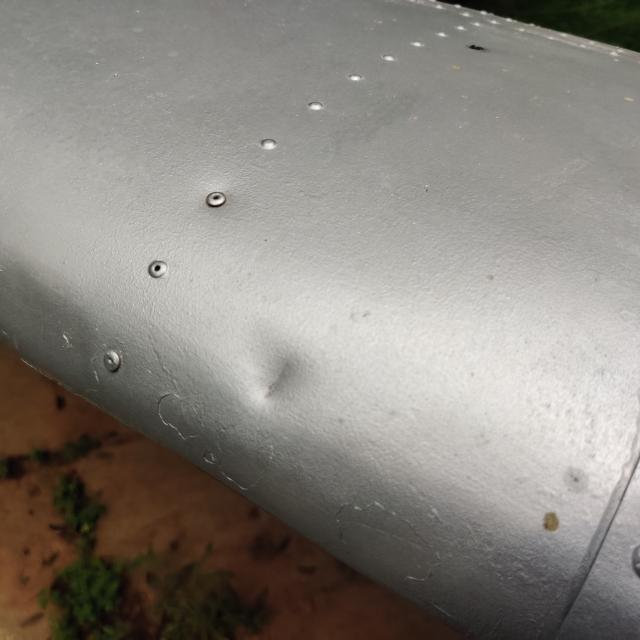dent: (226, 326, 339, 433)
